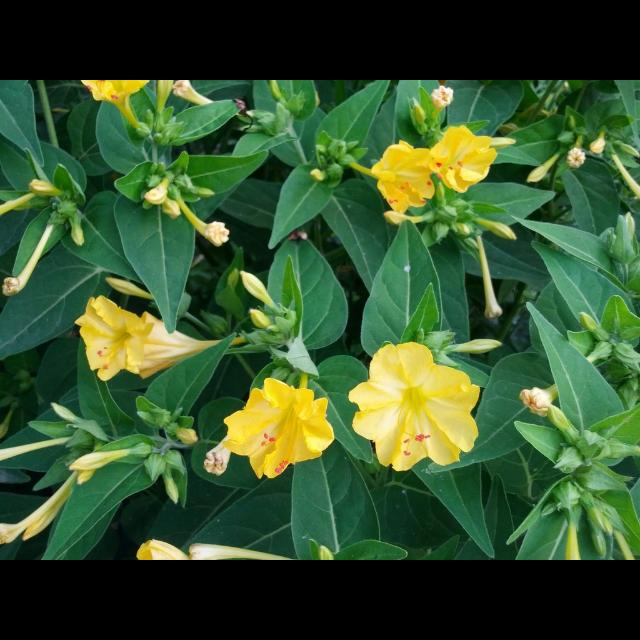Flower: (348, 340, 480, 470), (72, 296, 255, 376), (220, 378, 340, 482), (428, 125, 498, 209), (372, 139, 436, 219), (82, 80, 158, 98)
